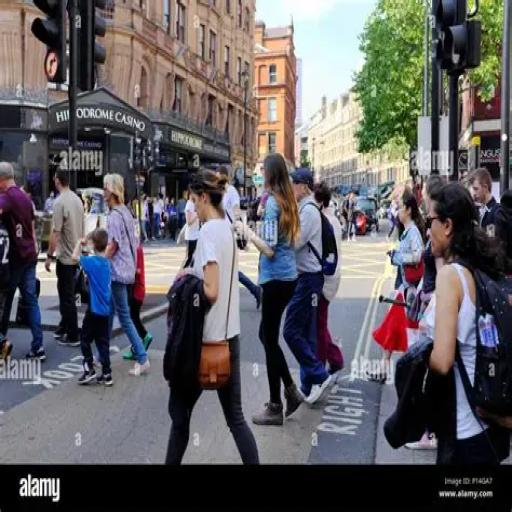car: (354, 194, 380, 240)
person: (163, 168, 259, 465), (423, 181, 512, 499), (244, 146, 307, 432), (0, 150, 54, 364), (46, 160, 86, 344), (291, 163, 324, 380), (75, 228, 120, 384), (313, 183, 346, 373), (387, 191, 427, 334), (472, 163, 508, 238), (154, 187, 168, 237)
traffic light: (429, 0, 488, 81), (30, 0, 65, 82), (76, 0, 106, 91)
